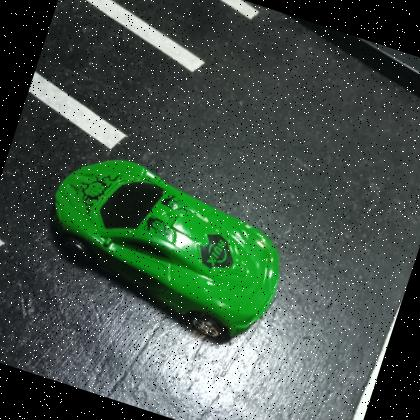Car: (24, 138, 304, 358)
